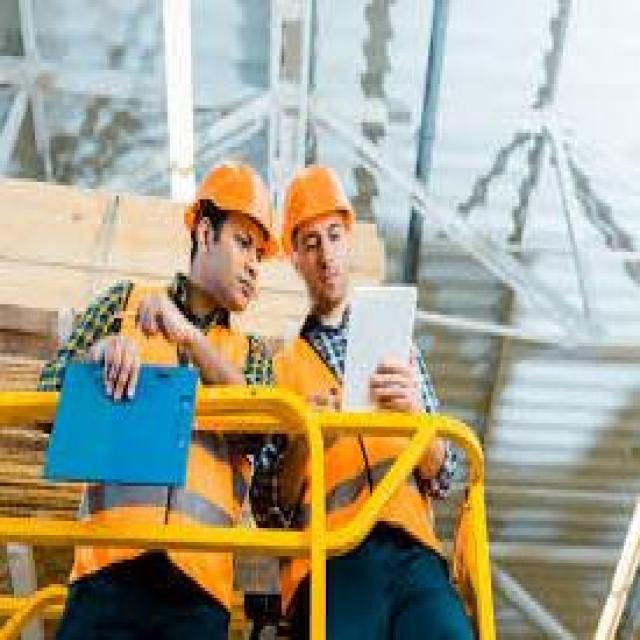Reflective-Jacket: (266, 301, 487, 622), (45, 280, 252, 605)
Safety-Helmet: (172, 147, 282, 262), (277, 150, 363, 259)
